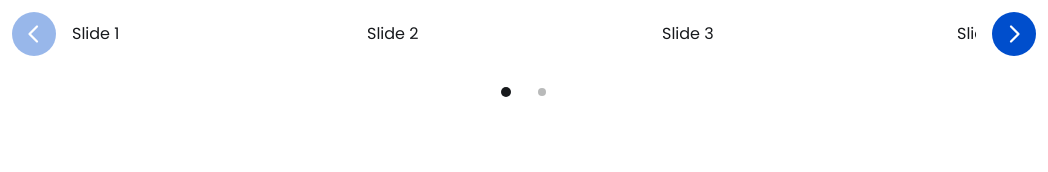
Test: Carousel › uses the fractional physical end offset and keeps the partially visible slide available
The image size is (1048, 172).
Click the button named "Próximo slide": (1014, 34) [992,12,1036,56]
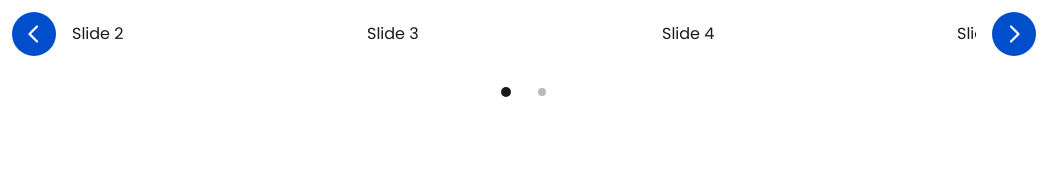
Click the button named "Próximo slide": (1014, 34) [992,12,1036,56]
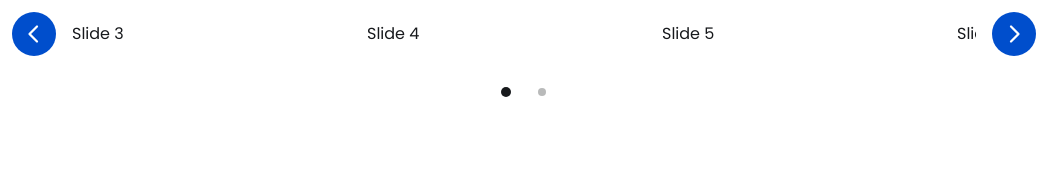
Click the button named "Próximo slide": (1014, 34) [992,12,1036,56]
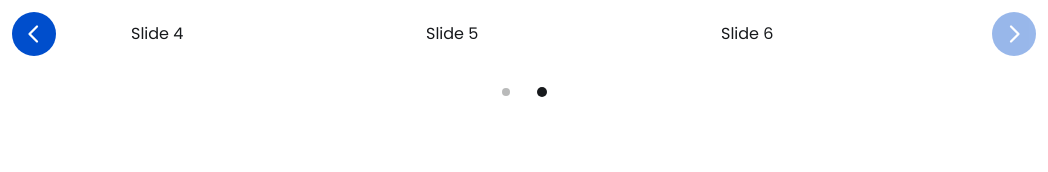
Expected: the button named "Próximo slide" is disabled, [992,12,1036,56]
